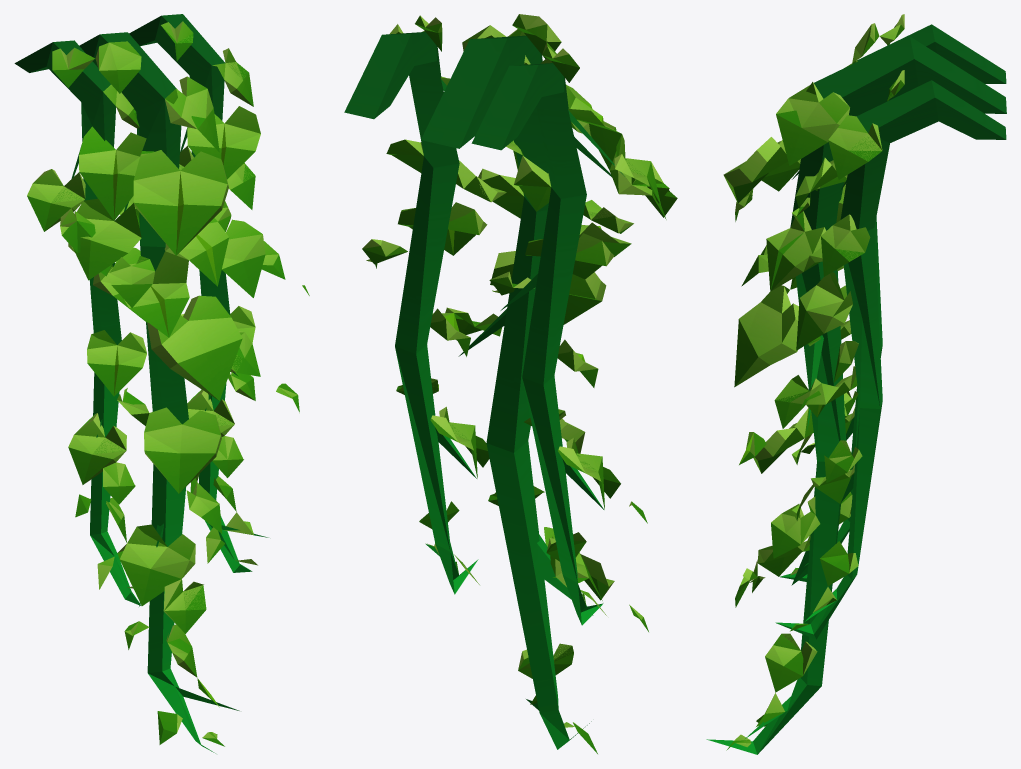
The model's file is GL-Plant-05-LOD2.fbx.
3 views of the same model, side by side, from view 1: azimuth 30°, elevation 25°; view 2: azimuth 150°, elevation 25°; view 3: azimuth 270°, elevation 25° (orthographic). The views are drawn at different scales.
Visible parts, largest first — view 1: GL_Plant_05; view 2: GL_Plant_05; view 3: GL_Plant_05.
Part boxes in pixels (left/top/right/bottom): GL_Plant_05: left=14, top=14, right=309, bottom=753; GL_Plant_05: left=344, top=14, right=677, bottom=753; GL_Plant_05: left=706, top=14, right=1006, bottom=754.
Bounding box in the file's own units: 0.8261 × 2.04 × 0.7827.
